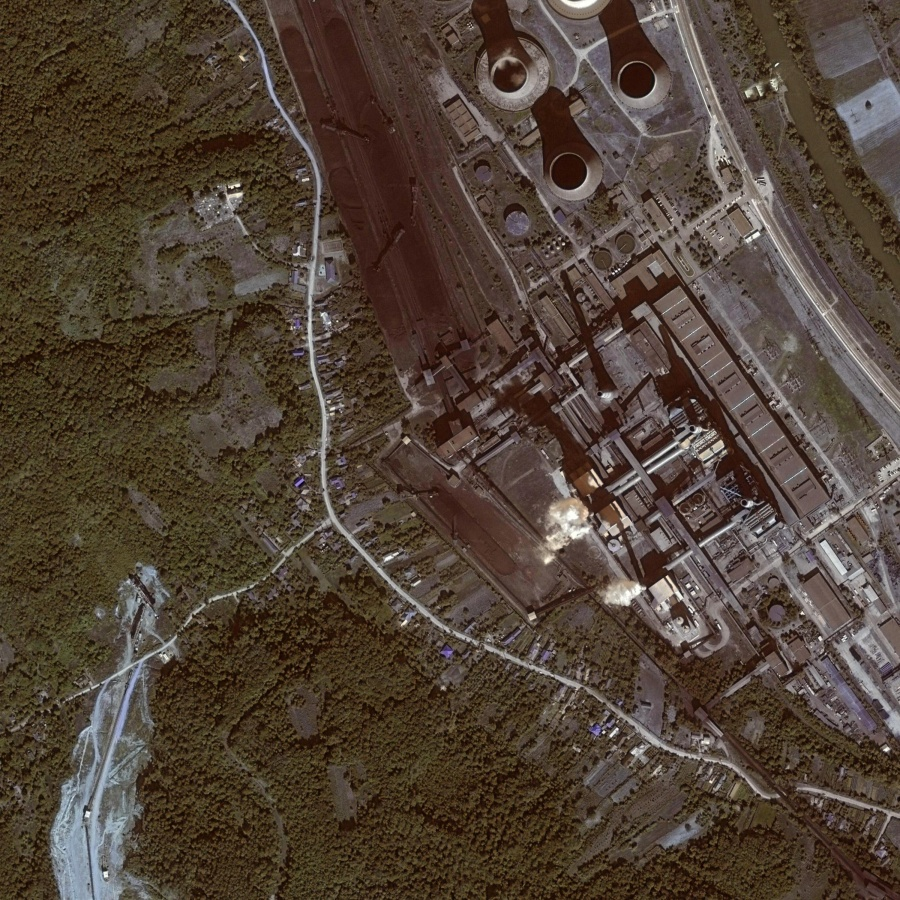PowerPlant: (429, 406, 644, 635)
